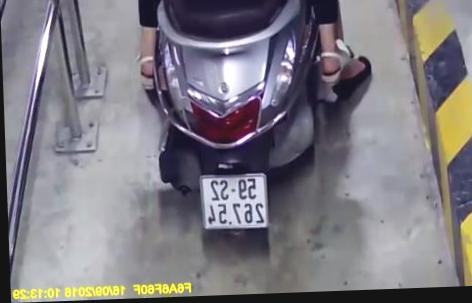License_Plate: (193, 164, 274, 238)
